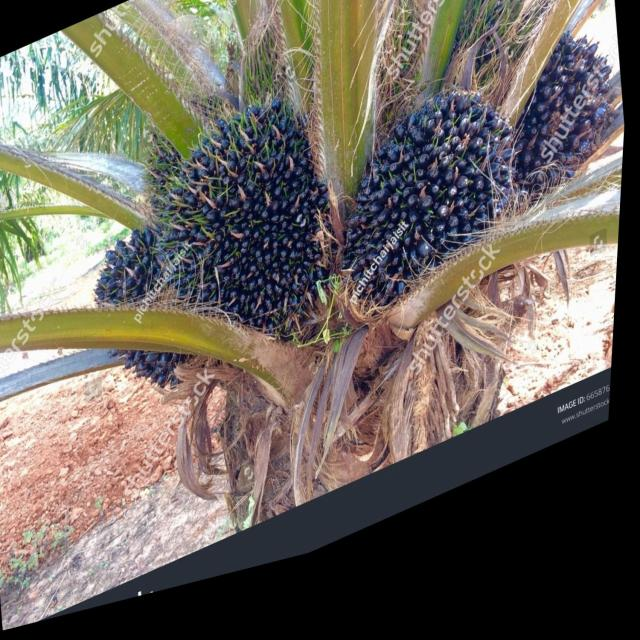Unripe: (144, 84, 356, 406), (326, 84, 536, 353), (499, 37, 633, 246), (83, 220, 189, 428)
